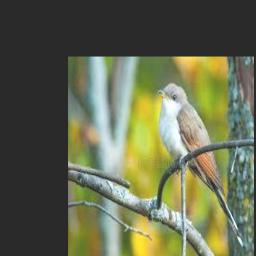Cuckoo: (157, 82, 244, 246)
